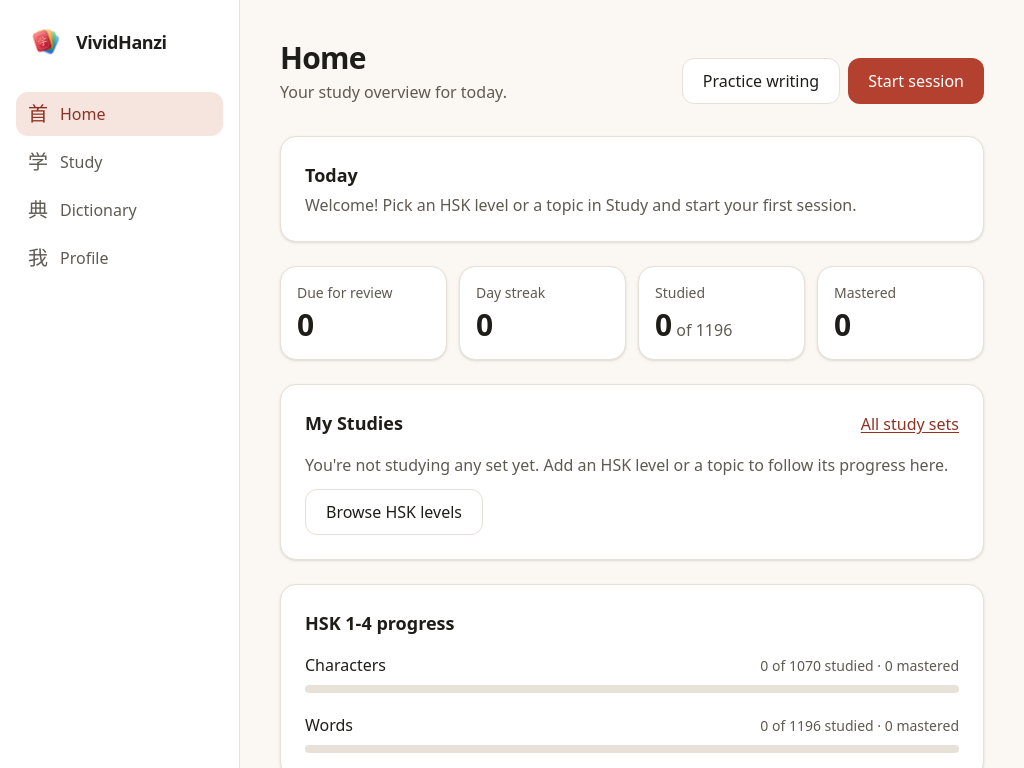
Test: AppRoutes › the home "Start session" button leads to practice
Click the link "Start session": {"x": 916, "y": 81} [848,58,984,104]
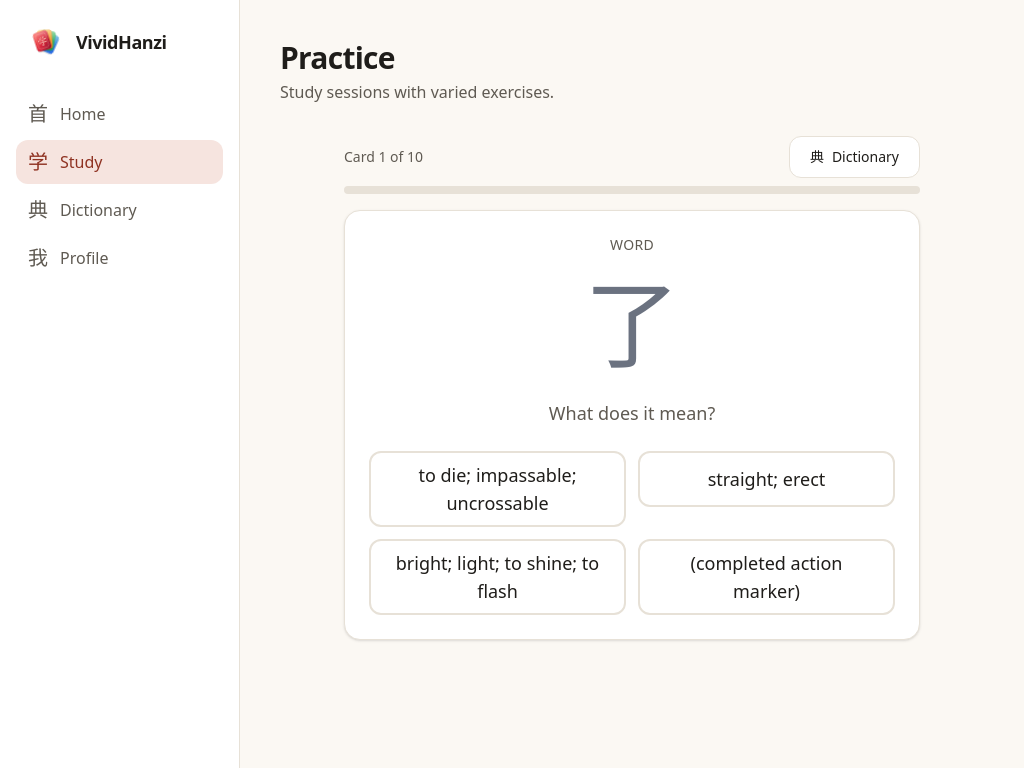
Expected: the heading "Practice" is shown, [280,37,395,78]
